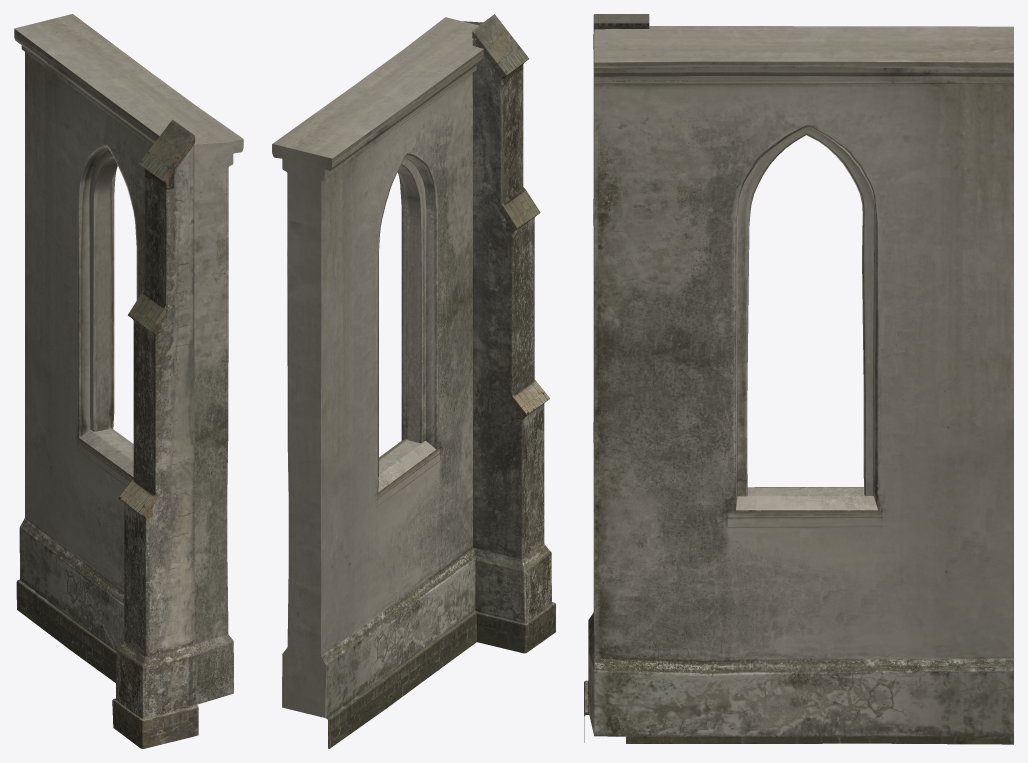
Rendered from sm_Church_01_13.fbx.
3 views of the same model, side by side, from view 1: azimuth 30°, elevation 25°; view 2: azimuth 150°, elevation 25°; view 3: azimuth 270°, elevation 25° (orthographic). The views are drawn at different scales.
Visible parts, largest first — view 1: sm_Church_01_13_LOD0; view 2: sm_Church_01_13_LOD0; view 3: sm_Church_01_13_LOD0.
Boxes of the visible parts, bbox=[...] form: sm_Church_01_13_LOD0: bbox=[14, 14, 243, 748]; sm_Church_01_13_LOD0: bbox=[272, 14, 555, 748]; sm_Church_01_13_LOD0: bbox=[584, 14, 1013, 744].
Size of the model in its own units: 151 by 430 by 812.
